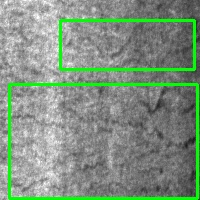crazing: (9, 84, 197, 198), (60, 20, 194, 69)
